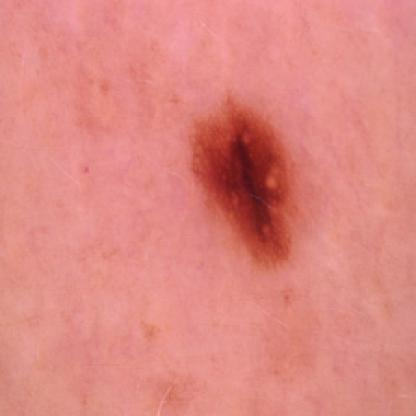benign: (188, 98, 332, 270)
